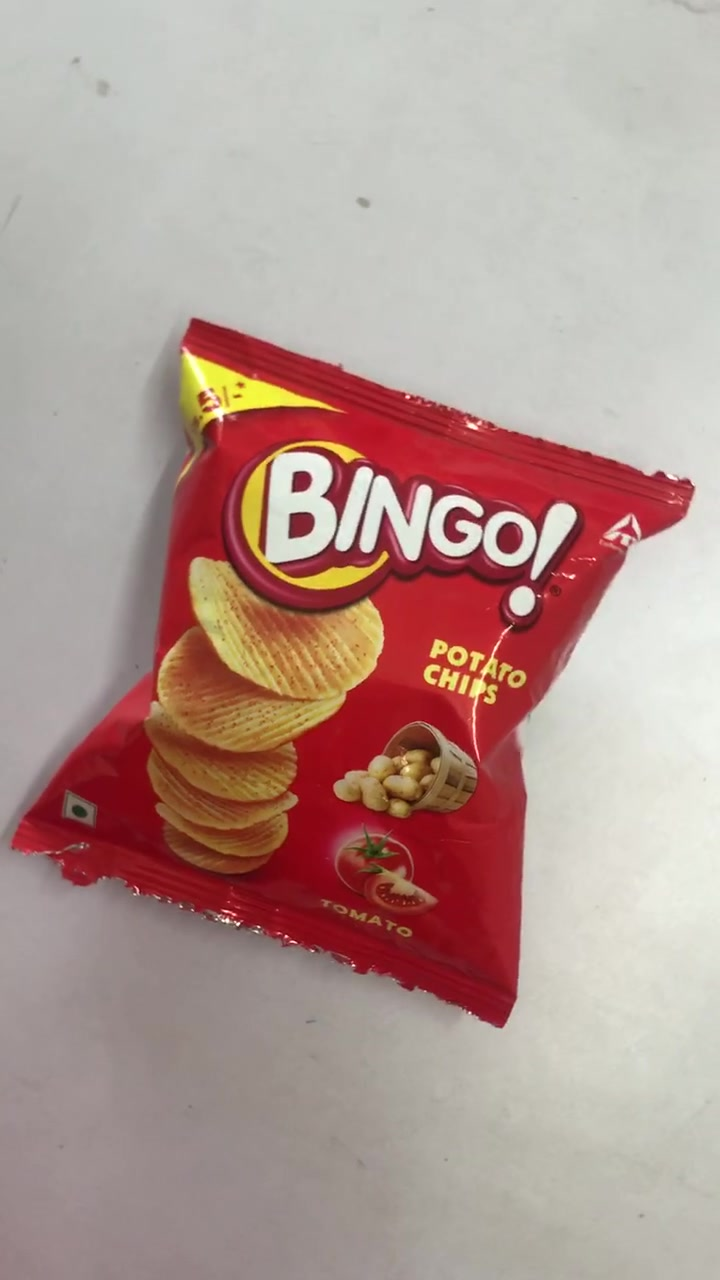Bingo: (13, 321, 696, 1028)
